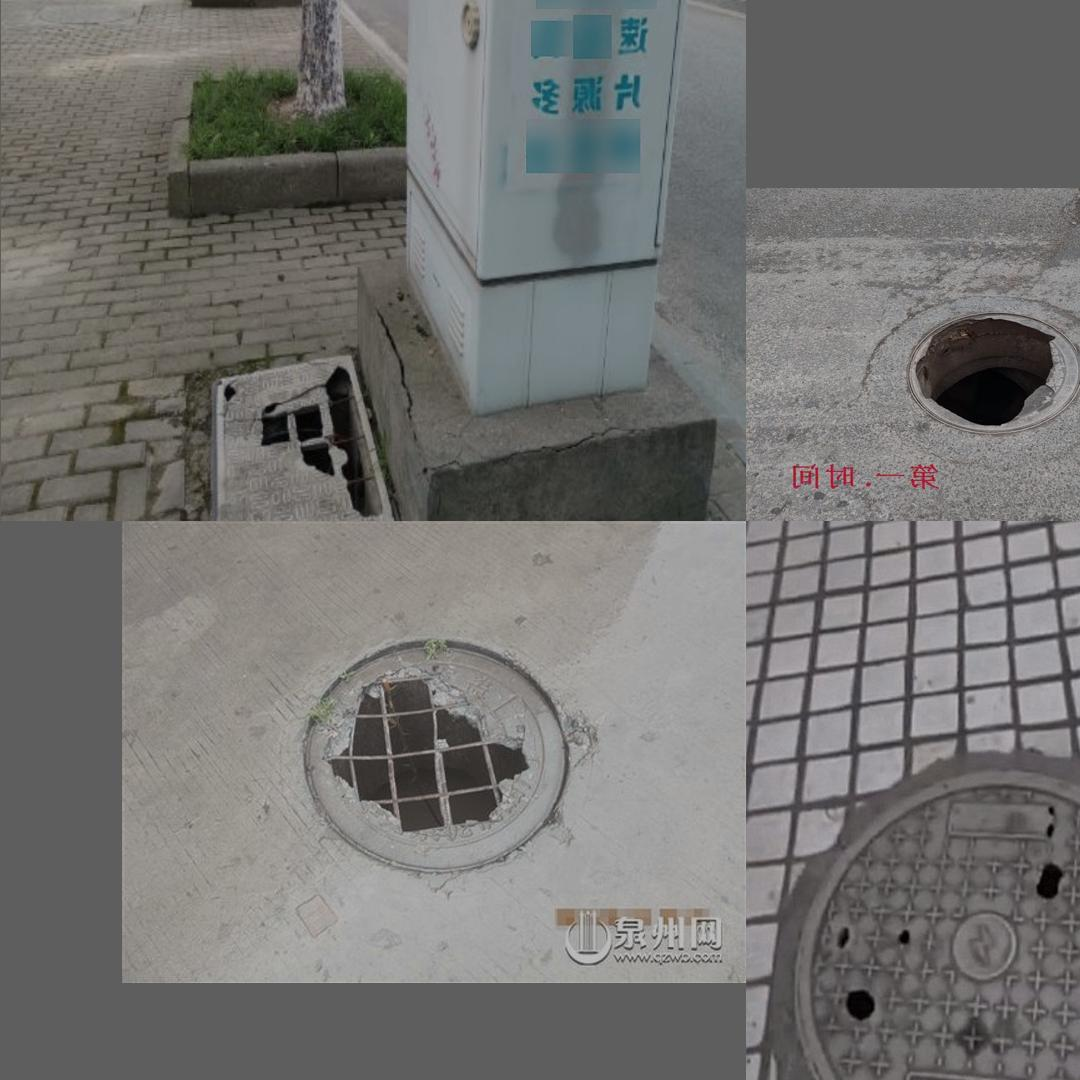broke: (792, 778, 1080, 1080), (287, 629, 590, 881), (854, 292, 1080, 464), (202, 349, 403, 521)
